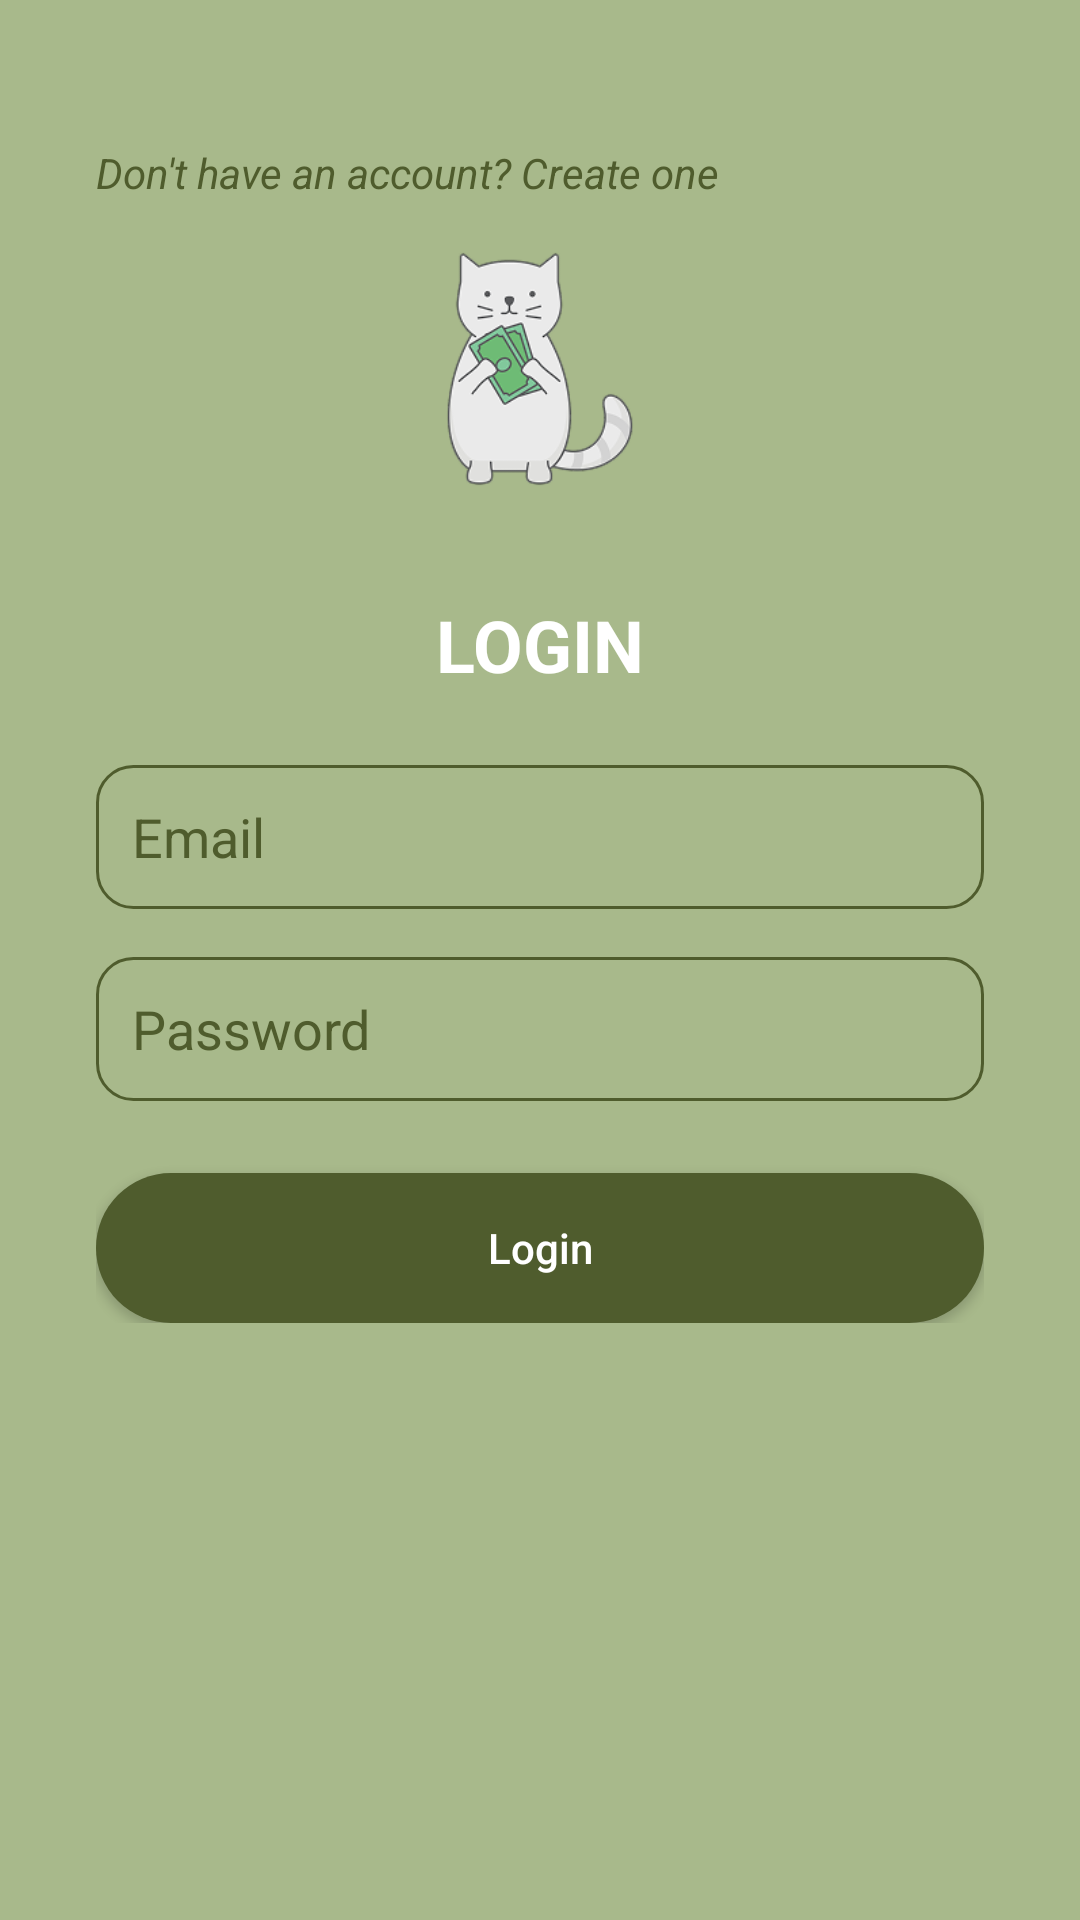

Point at icon controls on the screen. Image size 1080w x 1920h, points as (x=x, y=y).
cat: (x=540, y=369)
